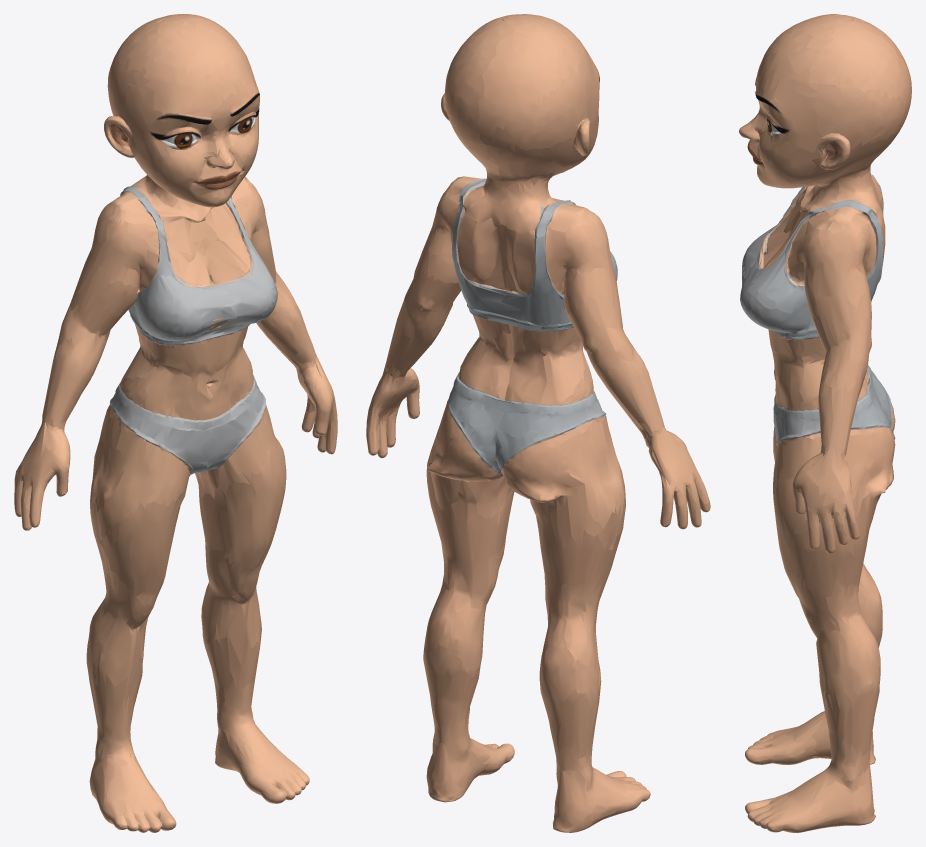
The model's file is body_female_thin.glb.
The picture shows the model from 3 angles, left to right: view 1: azimuth 30°, elevation 25°; view 2: azimuth 150°, elevation 25°; view 3: azimuth 270°, elevation 25°; orthographic projection.
Visible parts, largest first — view 1: body_thin; view 2: body_thin; view 3: body_thin.
Part boxes in pixels (x1,y1,x2,y2): body_thin: [14, 14, 337, 832]; body_thin: [366, 14, 710, 832]; body_thin: [739, 14, 911, 832].
Size of the model in its own units: 0.7286 by 1.7 by 0.3459.
Materials: 1 (1 with a texture image).
